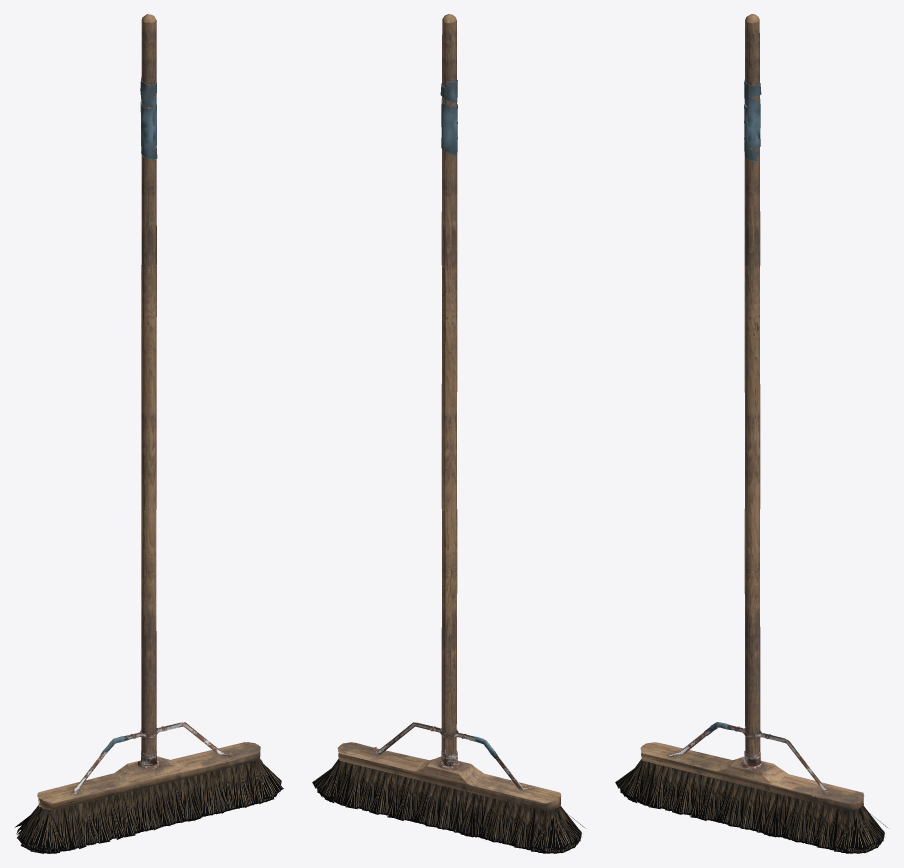
File: wooden_broom.glb
The picture shows the model from 3 angles, left to right: view 1: azimuth 30°, elevation 25°; view 2: azimuth 150°, elevation 25°; view 3: azimuth 330°, elevation 25°; orthographic projection.
Parts seen in each view (by area): view 1: wooden_broom_handle, wooden_broom_bristles, wooden_broom; view 2: wooden_broom_handle, wooden_broom_bristles, wooden_broom; view 3: wooden_broom_handle, wooden_broom_bristles, wooden_broom.
Boxes of the visible parts, x1,y1,x2,y2 form: wooden_broom_handle: (140, 14, 157, 765); wooden_broom_bristles: (14, 758, 283, 853); wooden_broom: (37, 722, 273, 845); wooden_broom_handle: (440, 14, 457, 766); wooden_broom_bristles: (312, 758, 584, 853); wooden_broom: (337, 722, 563, 850); wooden_broom_handle: (744, 14, 761, 766); wooden_broom_bristles: (615, 760, 887, 853); wooden_broom: (638, 722, 864, 850).
Size of the model in its own units: 0.4875 by 1.45 by 0.1125.
Materials: 2 (2 with a texture image).
